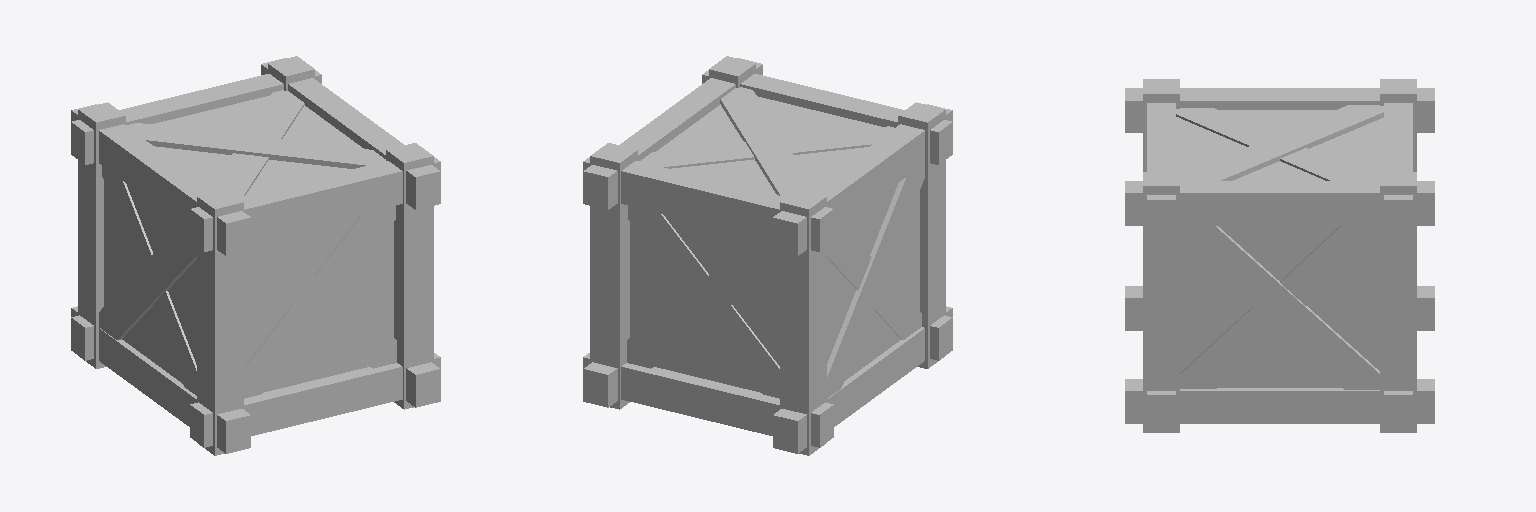
File: bigBox.obj
3 views of the same model, side by side, from view 1: azimuth 30°, elevation 25°; view 2: azimuth 150°, elevation 25°; view 3: azimuth 270°, elevation 25° (orthographic).
Parts seen in each view (by area): view 1: Cube.003; view 2: Cube.003; view 3: Cube.003.
Part boxes in pixels (bbox=[...]): Cube.003: bbox=[71, 56, 440, 455]; Cube.003: bbox=[583, 56, 952, 455]; Cube.003: bbox=[1125, 79, 1434, 432].
Bounding box in the file's own units: 0.5848 × 0.5825 × 0.663.